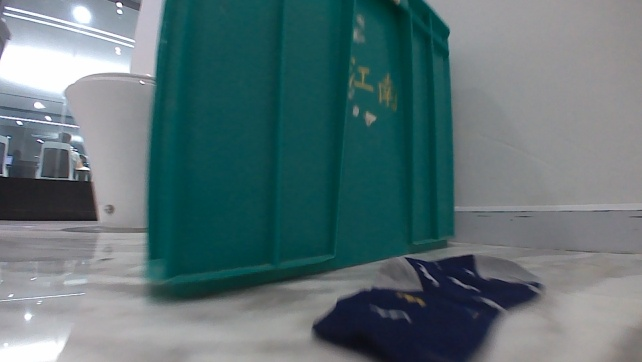socks: (305, 250, 547, 361)
toilet: (61, 69, 156, 232)
